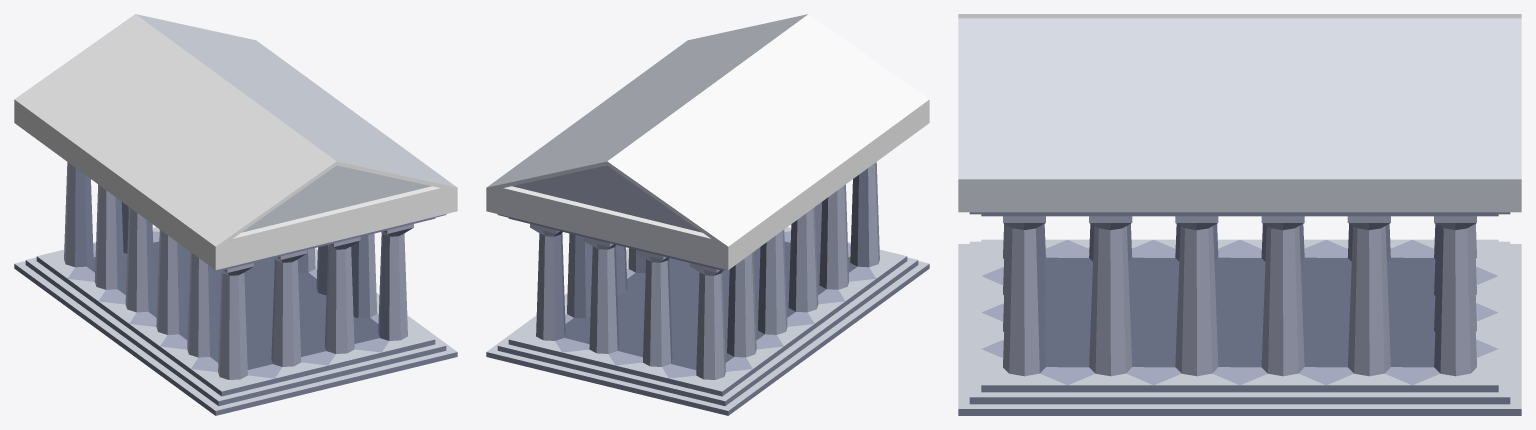
Rendered from Temple.fbx.
3 renders of one model, left to right at view 1: azimuth 30°, elevation 25°; view 2: azimuth 150°, elevation 25°; view 3: azimuth 270°, elevation 25°, orthographic. The views are drawn at different scales.
Visible parts, largest first — view 1: Regular Plane9_default; view 2: Regular Plane9_default; view 3: Regular Plane9_default.
Boxes of the visible parts, x1=… form: Regular Plane9_default: x1=14, y1=14, x2=457, y2=415; Regular Plane9_default: x1=486, y1=14, x2=929, y2=415; Regular Plane9_default: x1=958, y1=14, x2=1521, y2=415.
Size of the model in its own units: 680 by 604 by 980.
